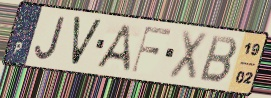A: (93, 22, 133, 73)
B: (197, 33, 240, 85)
F: (129, 25, 174, 75)
J: (33, 16, 67, 62)
V: (70, 14, 105, 69)
X: (165, 27, 211, 84)
